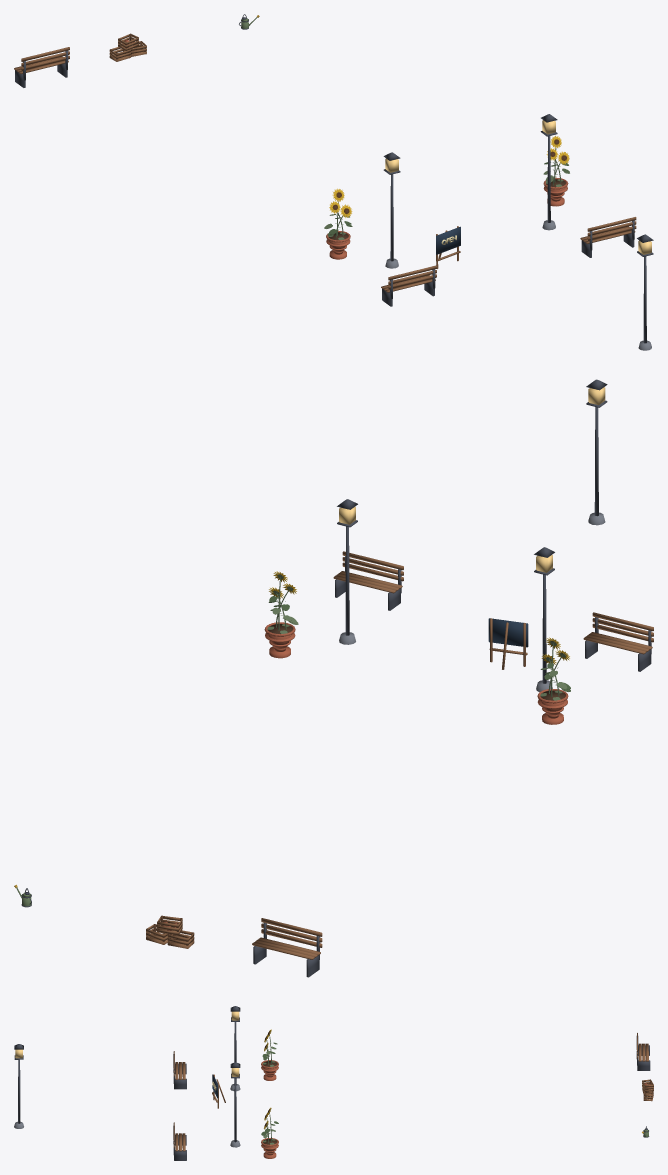
The model's file is Museum_Ext_Props.fbx.
The picture shows the model from 3 angles, top to bottom: view 1: azimuth 30°, elevation 25°; view 2: azimuth 150°, elevation 25°; view 3: azimuth 270°, elevation 25°; orthographic projection. The views are drawn at different scales.
Parts seen in each view (by area): view 1: Prop_Bench_E, Prop_Pot_W, Prop_Bench_W, Prop_Bench_Back, Prop_Pot_E, Prop_Lamppost_W, Prop_Lamppost_E, Prop_Lamppost_Far, Prop_Crates, Prop_Sign_Open; view 2: Prop_Bench_Back, Prop_Bench_W, Prop_Bench_E, Prop_Pot_E, Prop_Pot_W, Prop_Sign_Open, Prop_Crates, Prop_Lamppost_E, Prop_Lamppost_Far, Prop_Lamppost_W; view 3: Prop_Pot_E, Prop_Pot_W, Prop_Lamppost_E, Prop_Bench_Back, Prop_Bench_W, Prop_Bench_E, Prop_Lamppost_Far, Prop_Lamppost_W.
Boxes of the visible parts, <box> form: Prop_Bench_E: <box>580,217,636,257</box>; Prop_Pot_W: <box>324,188,352,259</box>; Prop_Bench_W: <box>381,265,436,306</box>; Prop_Bench_Back: <box>14,47,69,87</box>; Prop_Pot_E: <box>543,136,569,206</box>; Prop_Lamppost_W: <box>383,152,400,268</box>; Prop_Lamppost_E: <box>540,114,557,230</box>; Prop_Lamppost_Far: <box>637,234,653,350</box>; Prop_Crates: <box>109,33,146,61</box>; Prop_Sign_Open: <box>436,226,460,268</box>; Prop_Bench_Back: <box>252,918,322,977</box>; Prop_Bench_W: <box>583,612,653,671</box>; Prop_Bench_E: <box>333,551,403,610</box>; Prop_Pot_E: <box>264,571,298,658</box>; Prop_Pot_W: <box>537,637,570,724</box>; Prop_Sign_Open: <box>488,618,528,669</box>; Prop_Crates: <box>146,915,194,948</box>; Prop_Lamppost_E: <box>337,499,357,644</box>; Prop_Lamppost_Far: <box>586,379,607,525</box>; Prop_Lamppost_W: <box>534,547,554,691</box>; Prop_Pot_E: <box>261,1107,278,1158</box>; Prop_Pot_W: <box>261,1029,278,1080</box>; Prop_Lamppost_E: <box>230,1062,240,1147</box>; Prop_Bench_Back: <box>636,1033,650,1070</box>; Prop_Bench_W: <box>173,1051,186,1089</box>; Prop_Bench_E: <box>173,1122,186,1160</box>; Prop_Lamppost_Far: <box>14,1044,23,1128</box>; Prop_Lamppost_W: <box>230,1006,240,1091</box>.
Bounding box in the file's own units: 9.9 × 3.57 × 25.
